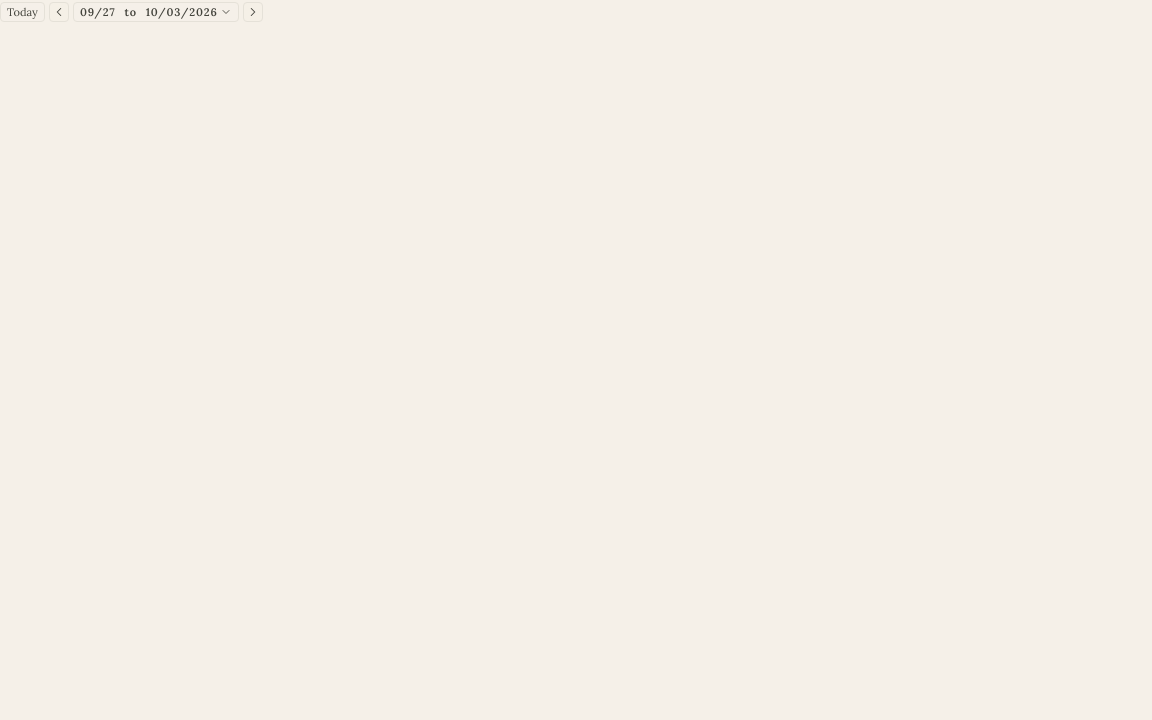
Test: WeekSelector › browses months inside the calendar without changing the week
Click the button "09/27 to 10/03/2026".
click(156, 12)  # box [73,2,239,22]
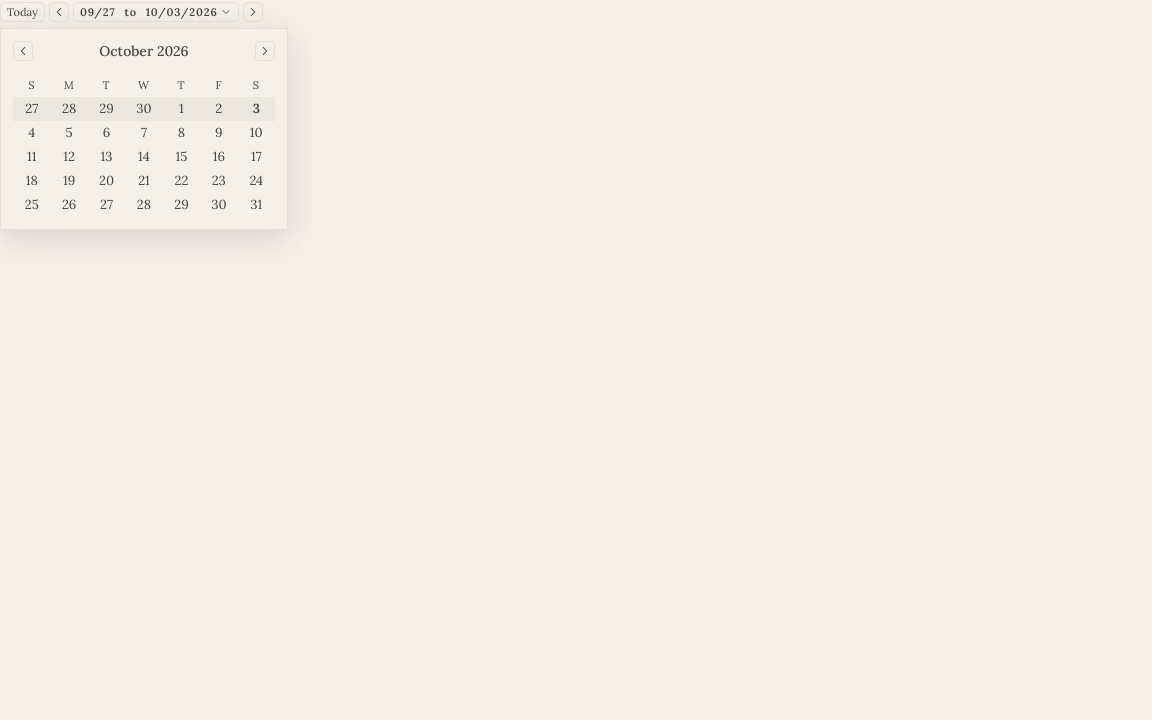
Click the button named "Next month".
click(265, 51)  # box [255,41,275,61]
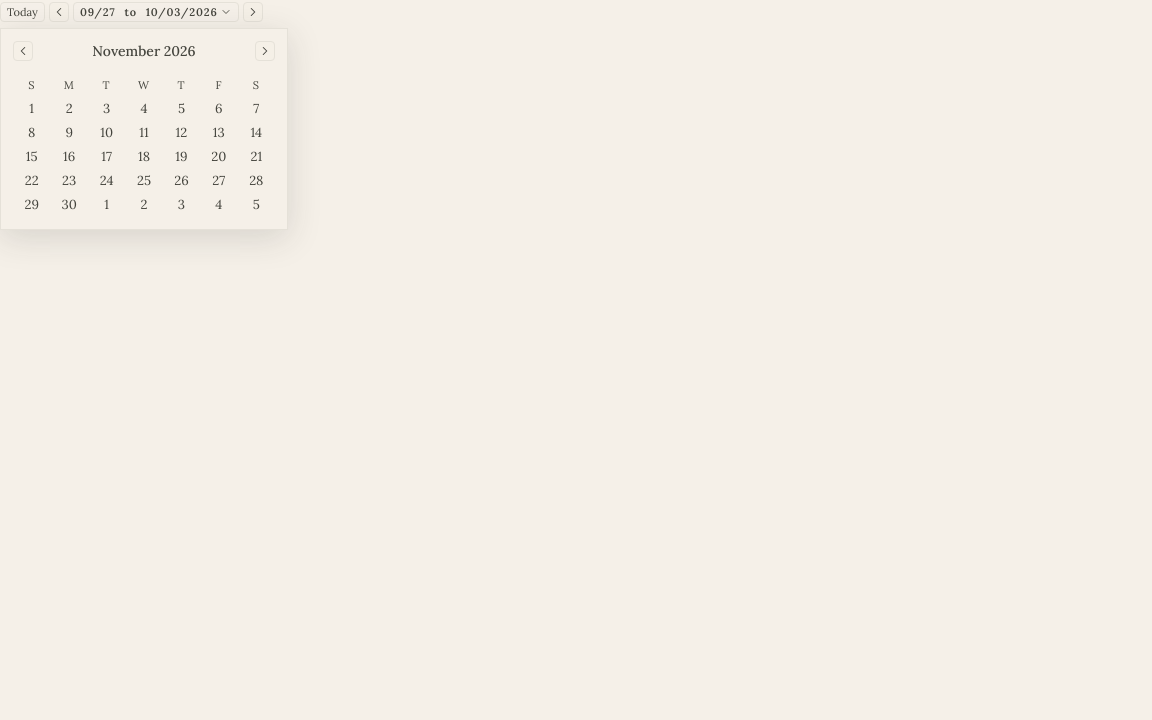
Check: the text "November 2026" is shown, box [92,41,196,61]
